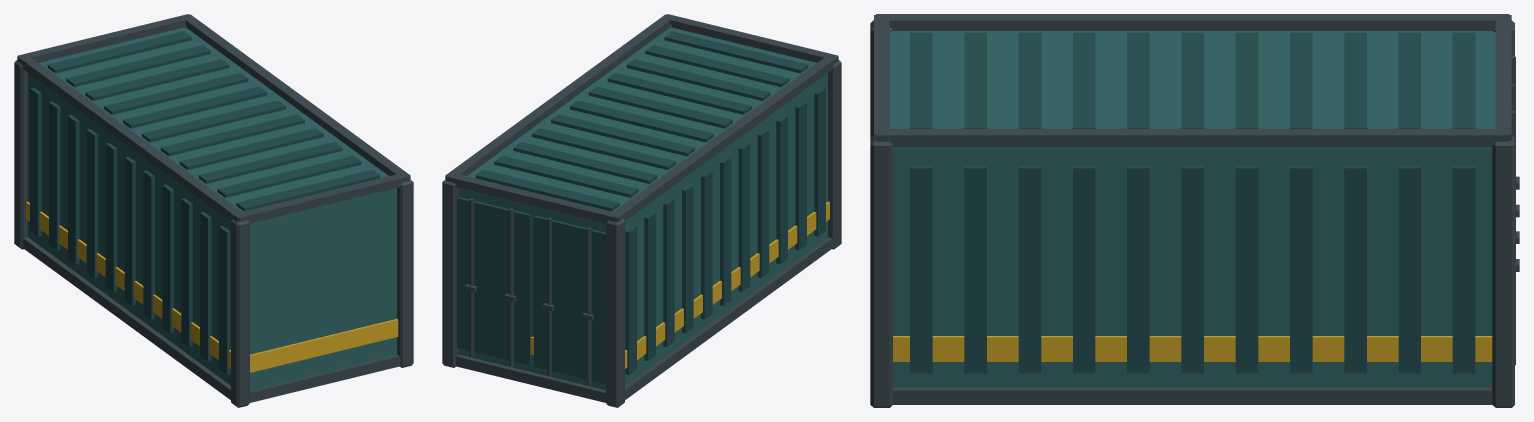
File: Env_Container.fbx
The picture shows the model from 3 angles, left to right: view 1: azimuth 30°, elevation 25°; view 2: azimuth 150°, elevation 25°; view 3: azimuth 270°, elevation 25°; orthographic projection. The views are drawn at different scales.
Visible parts, largest first — view 1: Env_Container; view 2: Env_Container; view 3: Env_Container.
Boxes of the visible parts, x1,y1,x2,y2 form: Env_Container: [14, 14, 413, 407]; Env_Container: [442, 14, 841, 407]; Env_Container: [870, 14, 1519, 407].
Bounding box in the file's own units: 2.6 × 5.74 × 2.66.
